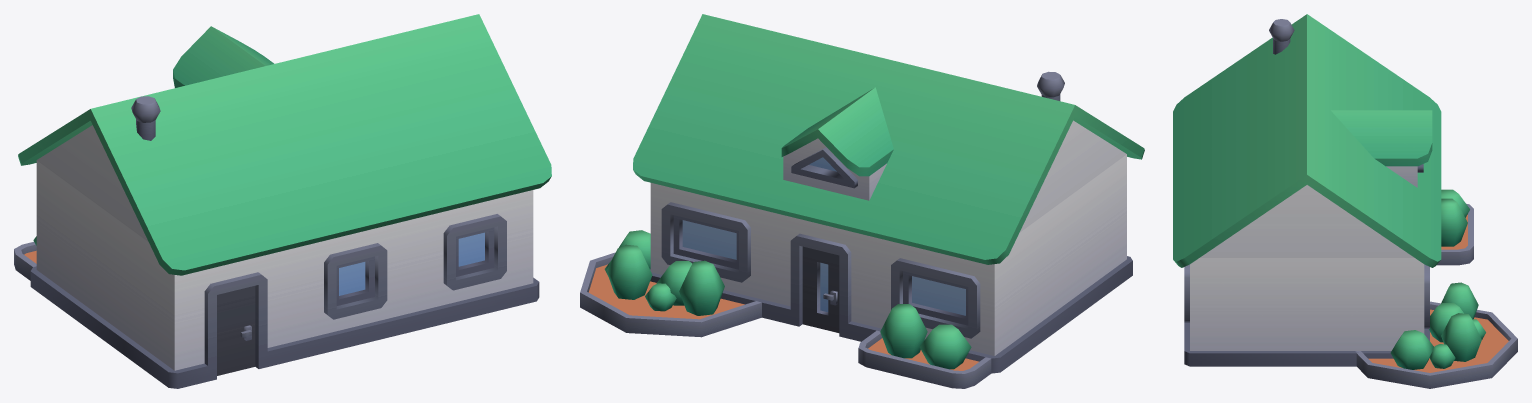
Rendered from suburban-building-type-g.glb.
3 views of the same model, side by side, from view 1: azimuth 30°, elevation 25°; view 2: azimuth 150°, elevation 25°; view 3: azimuth 270°, elevation 25° (orthographic). The views are drawn at different scales.
Parts seen in each view (by area): view 1: building-type-g; view 2: building-type-g; view 3: building-type-g.
Boxes of the visible parts, <box> form: building-type-g: <box>14,14,551,388</box>; building-type-g: <box>580,14,1144,388</box>; building-type-g: <box>1173,14,1517,388</box>.
Size of the model in its own units: 1.45 by 0.7683 by 1.18.
1 material, 1 textured.
